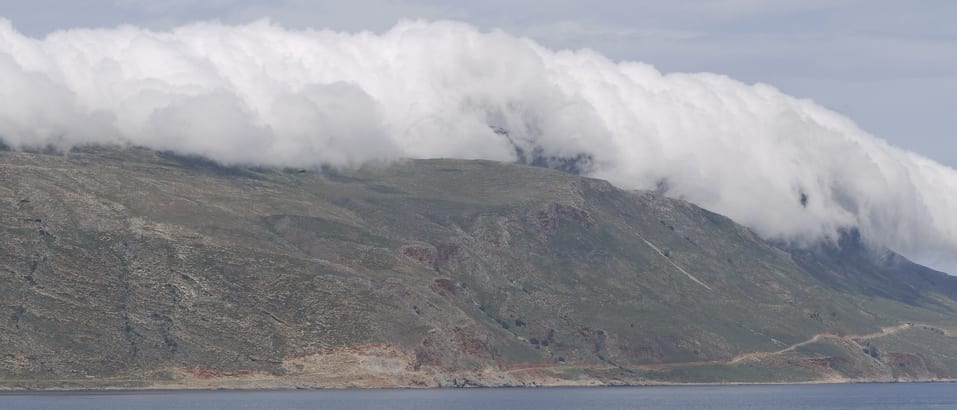Stratus: (4, 12, 957, 238)
